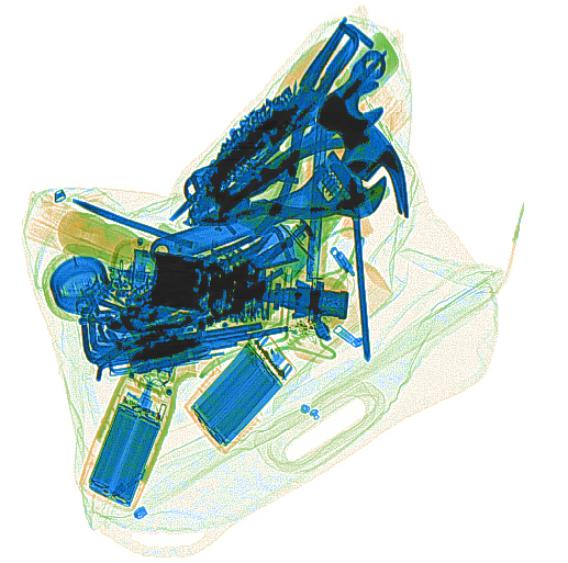battery: (183, 340, 285, 452), (88, 402, 161, 506)
